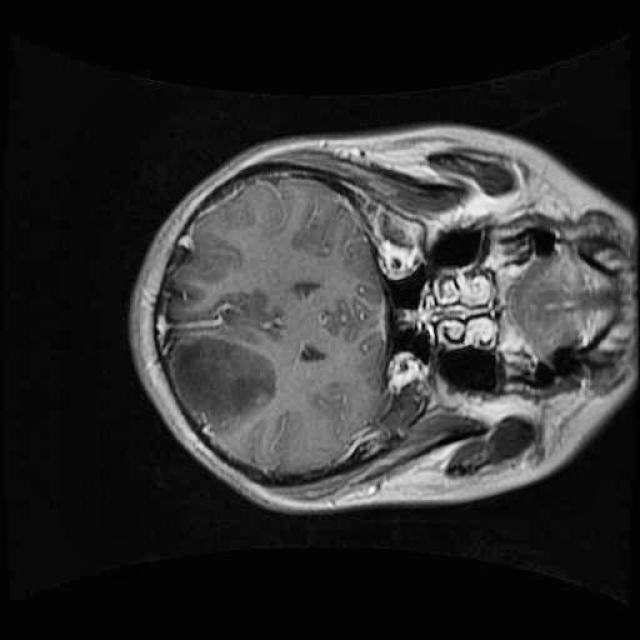Tumor: (153, 314, 295, 448)
